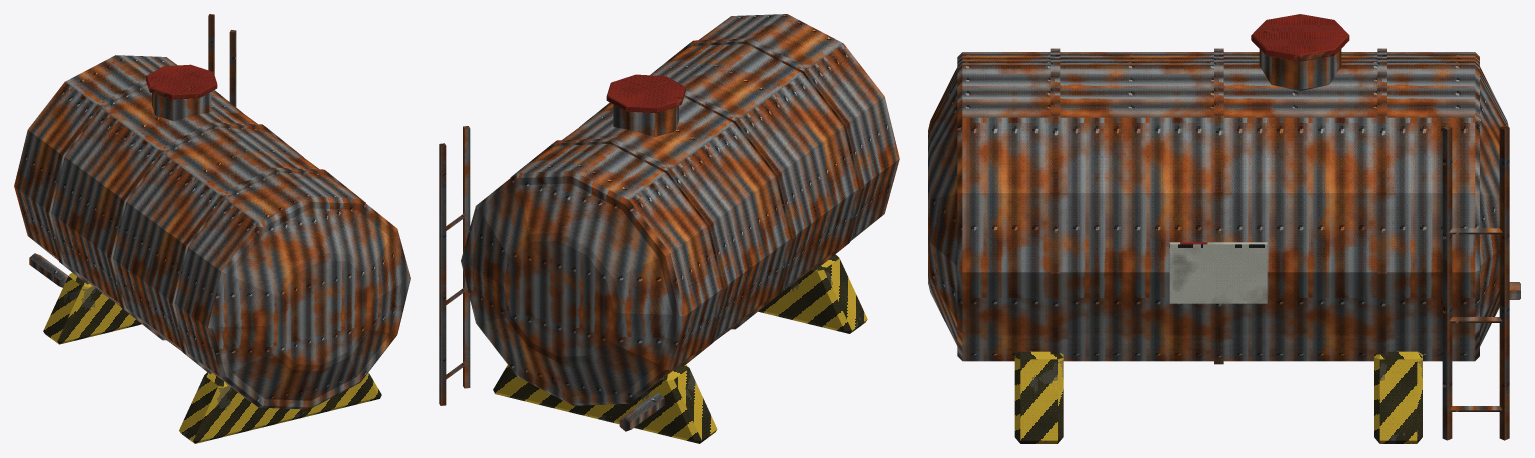
Rendered from prop_fuel_tank.glb.
3 renders of one model, left to right at view 1: azimuth 30°, elevation 25°; view 2: azimuth 150°, elevation 25°; view 3: azimuth 270°, elevation 25°, orthographic. The views are drawn at different scales.
Parts seen in each view (by area): view 1: prop_fuel_tank_mesh; view 2: prop_fuel_tank_mesh; view 3: prop_fuel_tank_mesh.
Part boxes in pixels (x1,y1,x2,y2): prop_fuel_tank_mesh: (14, 14, 410, 443); prop_fuel_tank_mesh: (439, 14, 899, 443); prop_fuel_tank_mesh: (928, 14, 1520, 443).
Bounding box in the file's own units: 2 × 2.36 × 3.63.
Materials: 4 (4 with a texture image).
